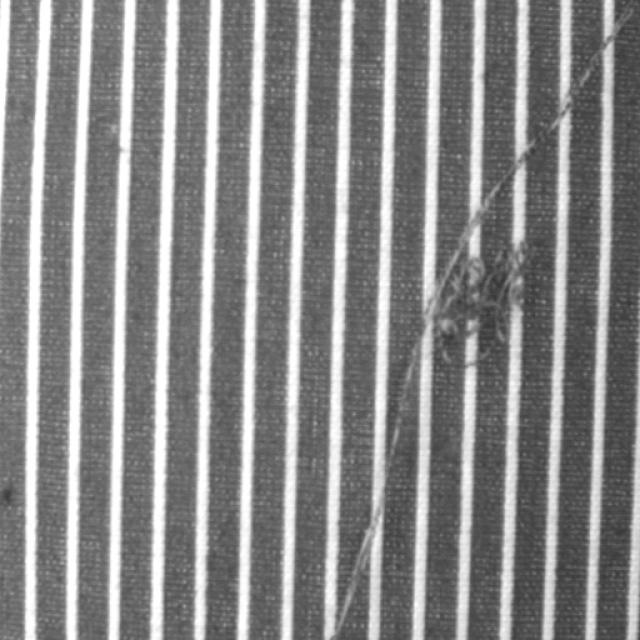Foreign-Body-Defect: (324, 0, 633, 639)
